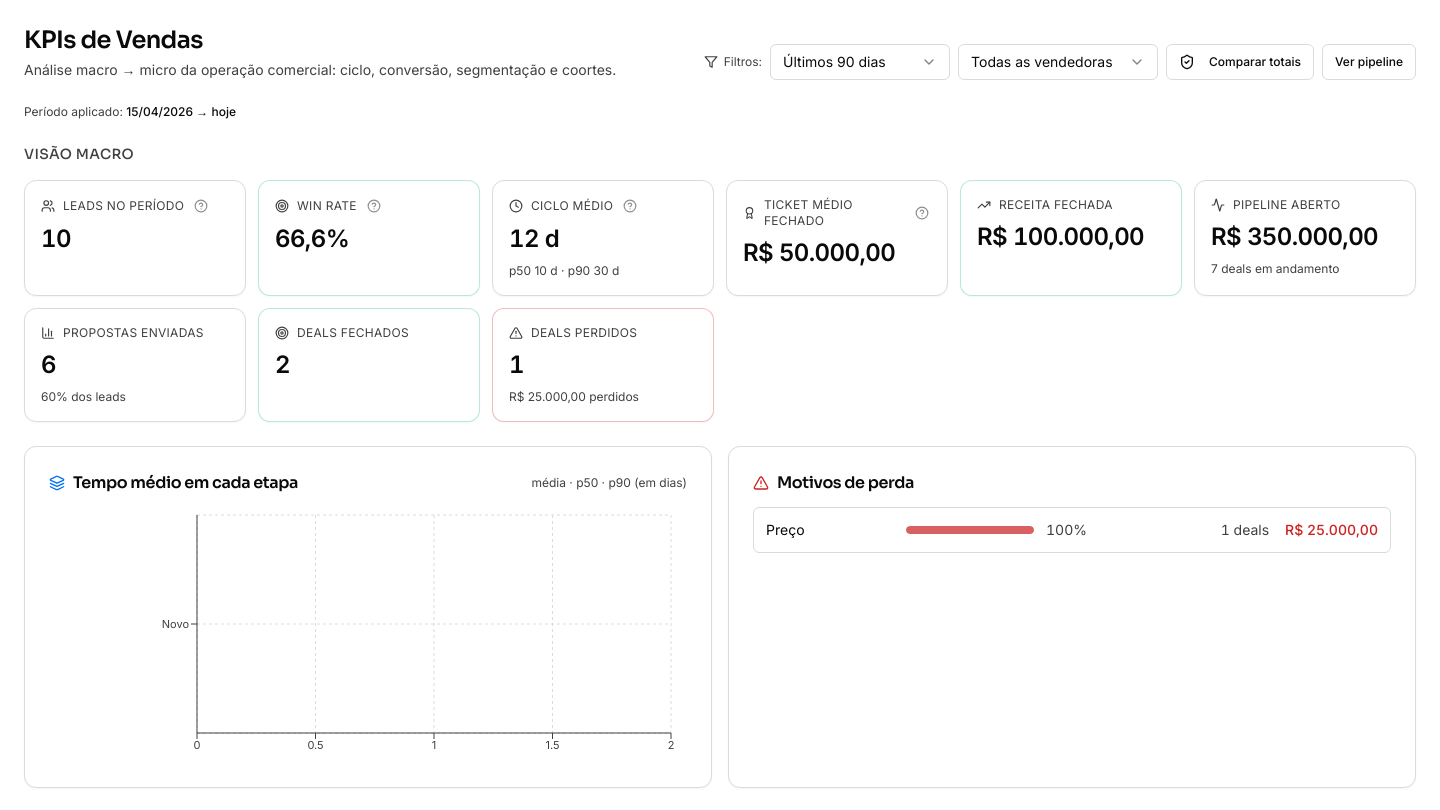
Test: SalesKpisPage — filtros globais propagam para todos os blocos › ao selecionar uma vendedora, propaga _owner_id para todas as RPCs (exceto by_owner)
Click the dropdown labelled "Todas as vendedoras". click: (1058, 62)
box: [958,44,1158,80]
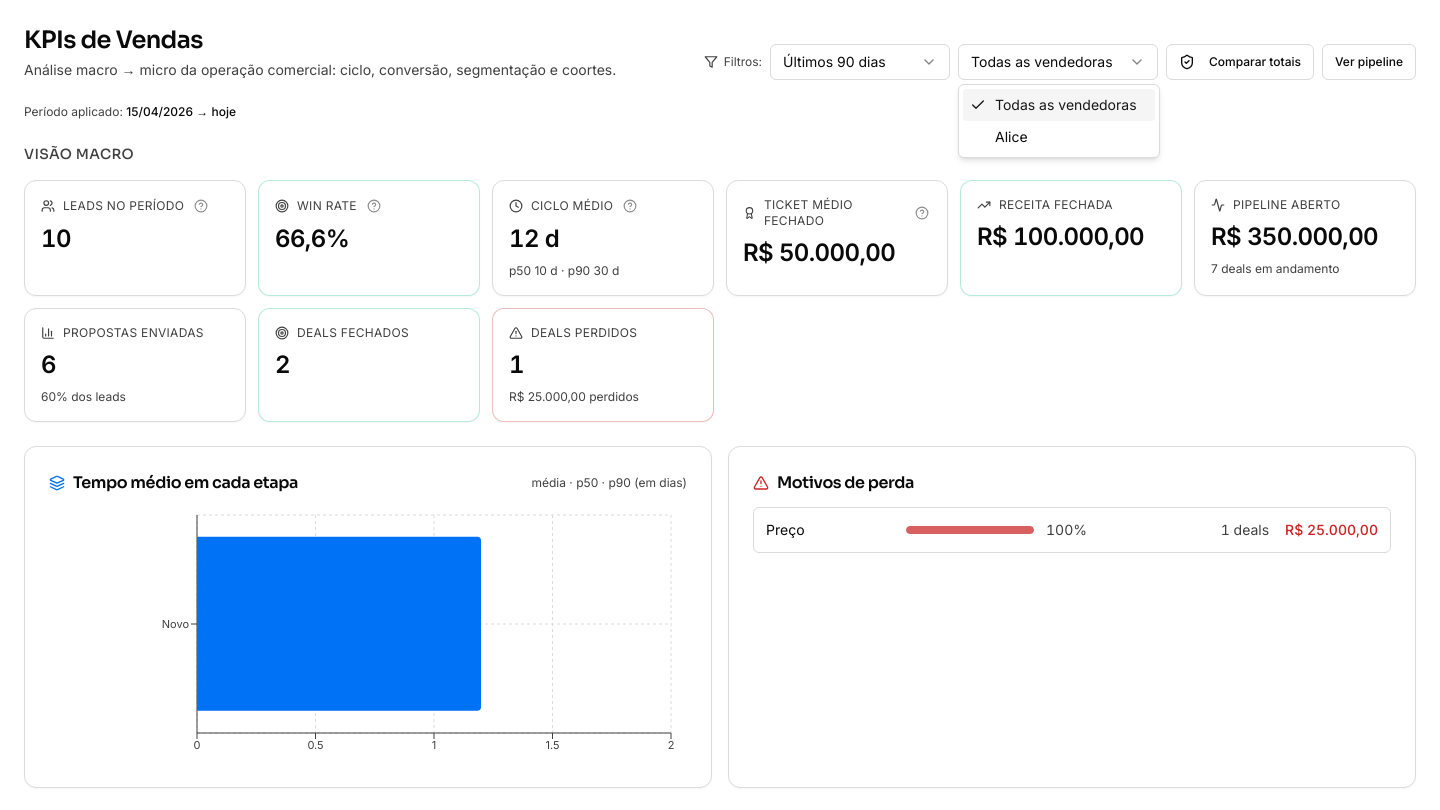
Click the option "Alice". click: (1011, 136)
box: [995,128,1028,145]
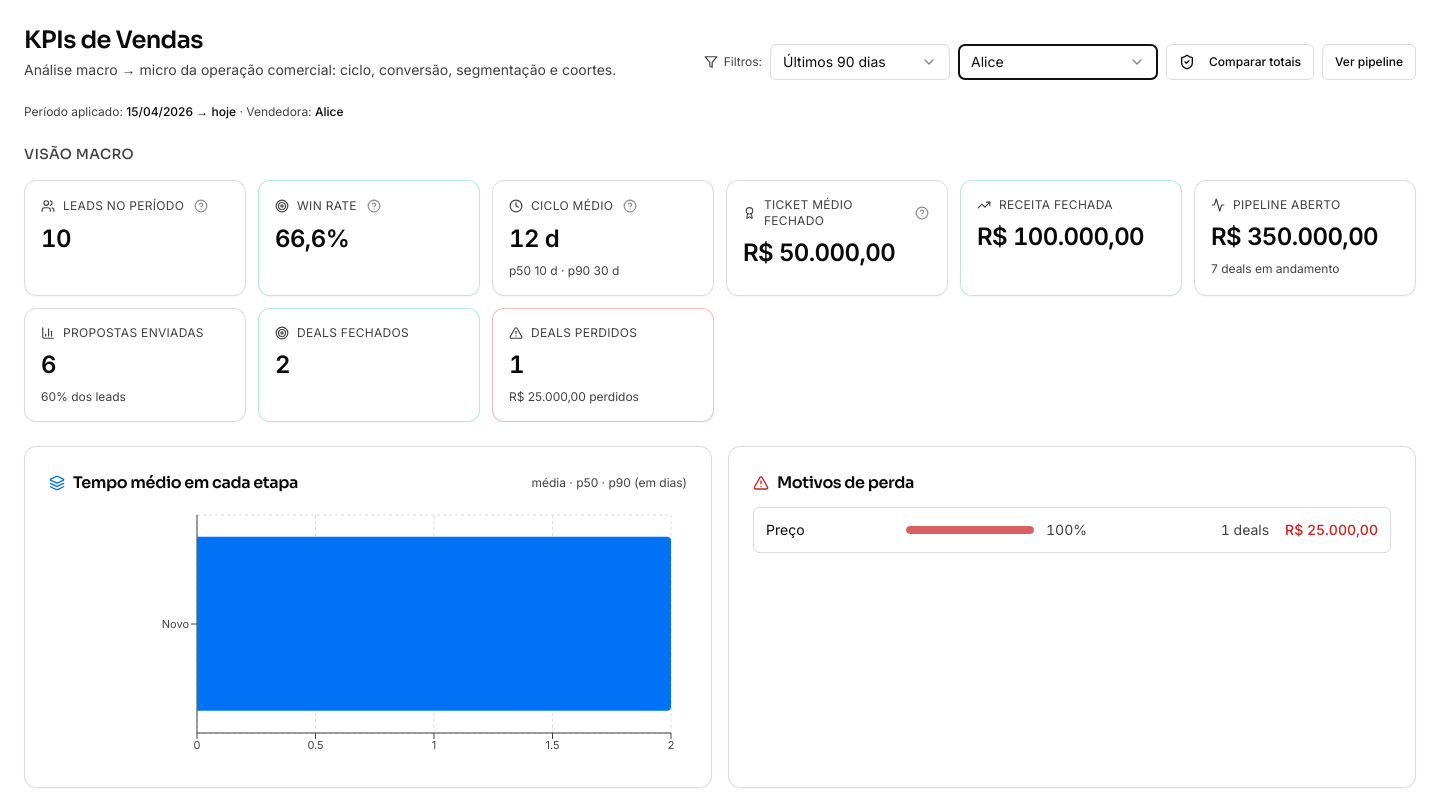
expect the text "Alice" is shown: met, box [971,52,1004,72]
expect the text "Período aplicado: 15/04/2026 → hoje · Vendedora: Alice" is shown: met, box [24,104,344,119]
